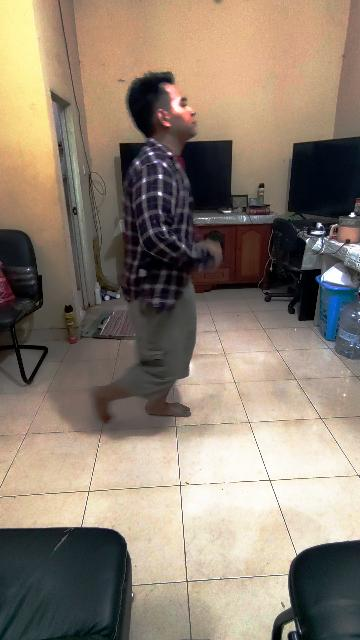berlari: (90, 69, 222, 434)
